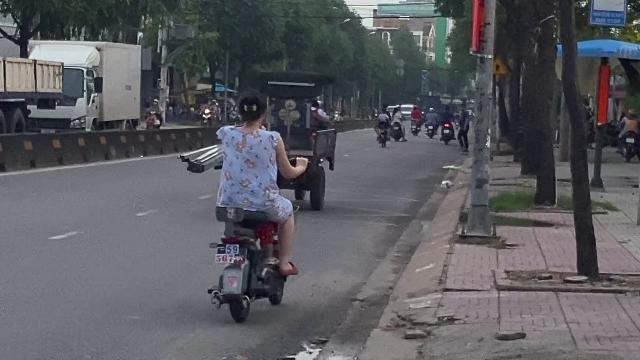motorcyclist: (200, 89, 304, 325)
nohelmet: (235, 91, 268, 129)
